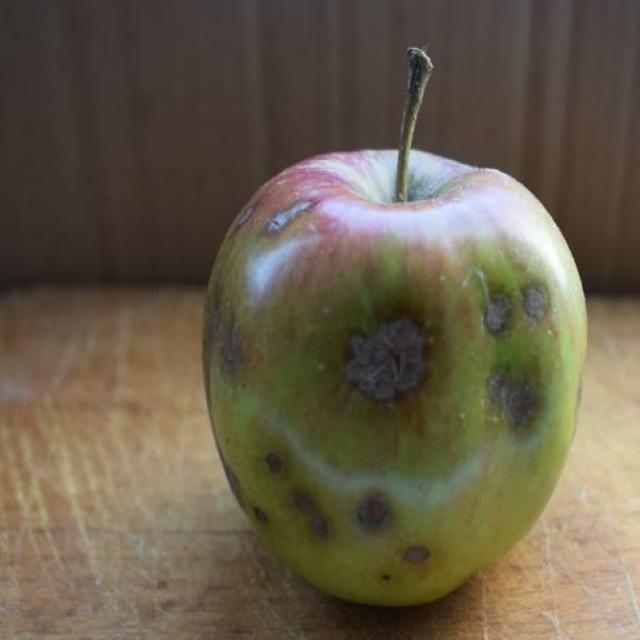Rotten: (199, 139, 593, 616)
